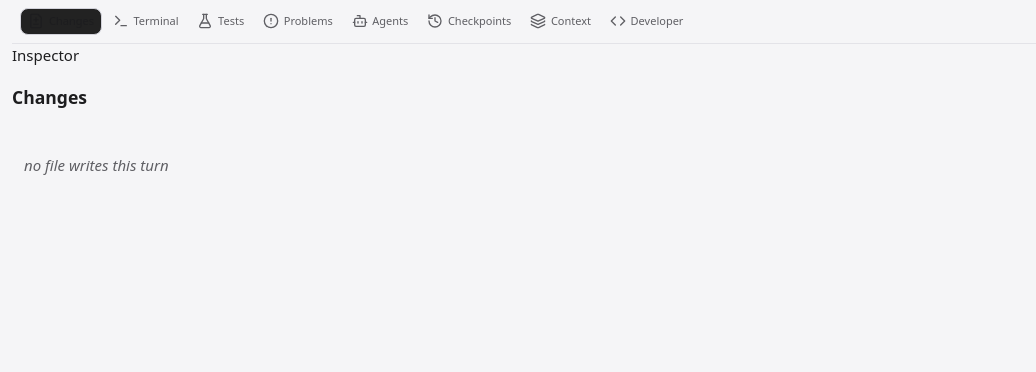
Scenario: AgentPanel › the Agents tab shows the turn's chain as a step timeline
Click the tab "Agents". click: (380,21)
box: [343,8,416,34]
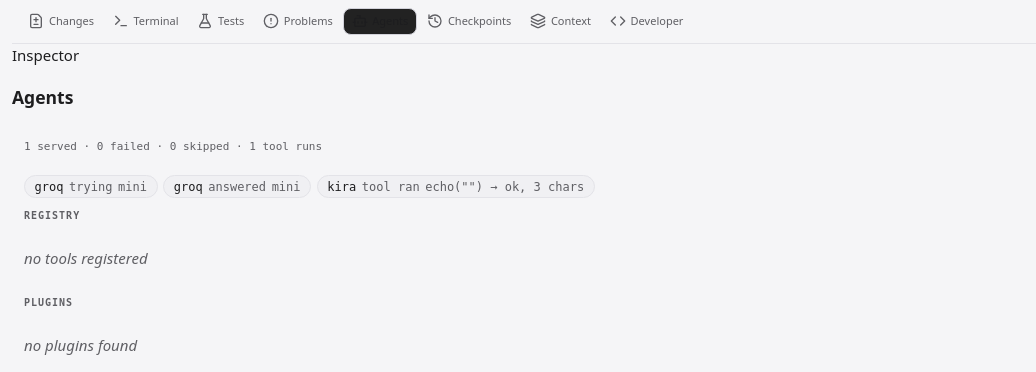
Expected: the text "trying" is shown, [69,178,112,196]
Expected: the text "answered" is shown, [208,178,266,196]
Expected: the text "tool ran" is shown, [362,178,420,196]
